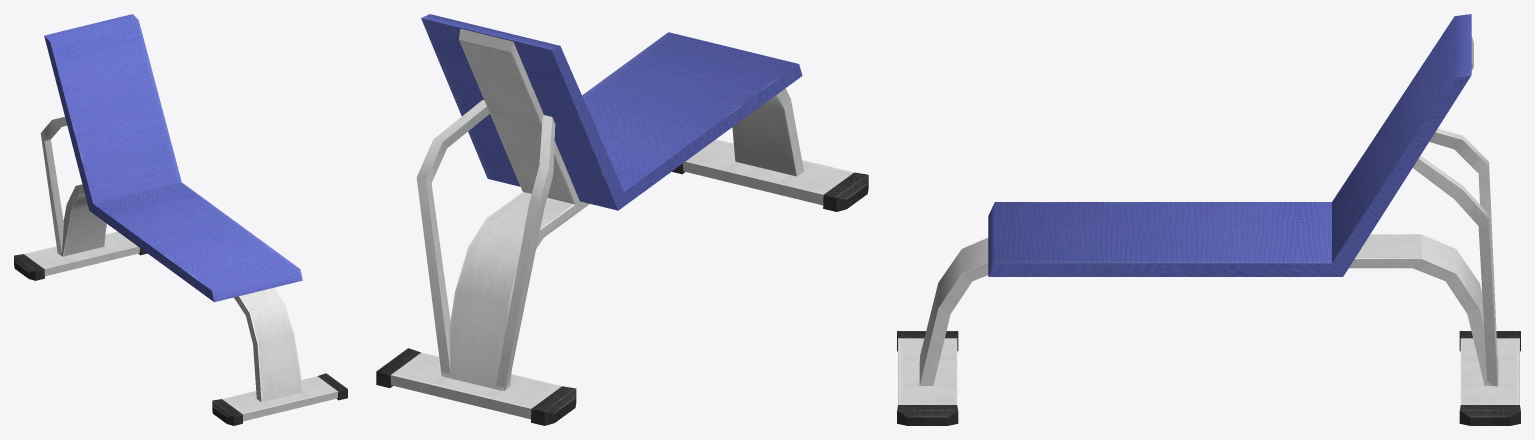
The model's file is M_Home_Garden_Fitnes02.fbx.
The picture shows the model from 3 angles, left to right: view 1: azimuth 30°, elevation 25°; view 2: azimuth 150°, elevation 25°; view 3: azimuth 270°, elevation 25°; orthographic projection. The views are drawn at different scales.
Parts seen in each view (by area): view 1: M_Home_Garden_Fitnes02; view 2: M_Home_Garden_Fitnes02; view 3: M_Home_Garden_Fitnes02.
Boxes of the visible parts, x1,y1,x2,y2 form: M_Home_Garden_Fitnes02: (14,14,347,425); M_Home_Garden_Fitnes02: (376,14,868,425); M_Home_Garden_Fitnes02: (897,14,1520,425).
Size of the model in its own units: 67.5 by 128 by 213.
